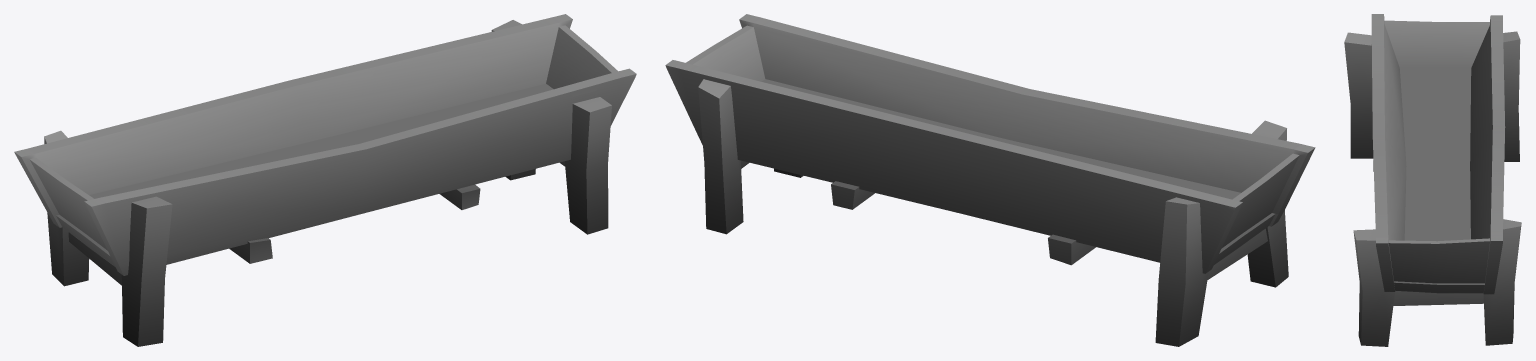
Rendered from WaterTrough_MESH_01.fbx.
3 renders of one model, left to right at view 1: azimuth 30°, elevation 25°; view 2: azimuth 150°, elevation 25°; view 3: azimuth 270°, elevation 25°, orthographic. The views are drawn at different scales.
Parts seen in each view (by area): view 1: WaterTrough_MESH_01; view 2: WaterTrough_MESH_01; view 3: WaterTrough_MESH_01.
Part boxes in pixels (box(x1,y1,x2,y2)): WaterTrough_MESH_01: box(14, 14, 636, 346); WaterTrough_MESH_01: box(665, 14, 1315, 346); WaterTrough_MESH_01: box(1344, 14, 1521, 346).
Bounding box in the file's own units: 725 × 180 × 238.
